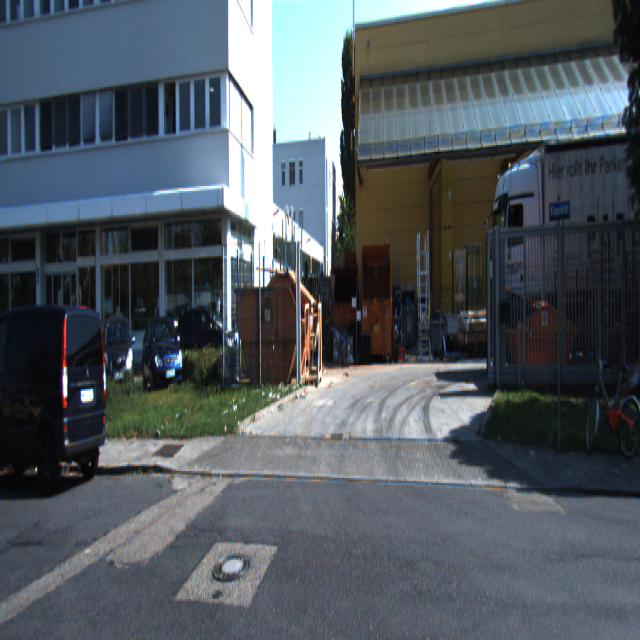Car: (0, 293, 111, 494), (141, 316, 185, 406), (101, 315, 137, 412)
